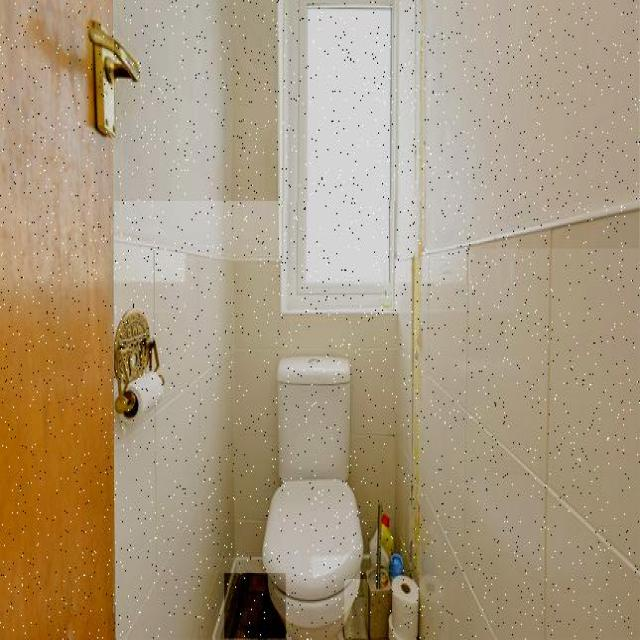Wall: (115, 202, 639, 639), (424, 0, 640, 249), (115, 0, 278, 259), (397, 0, 415, 257), (225, 574, 286, 640), (345, 580, 368, 640)
